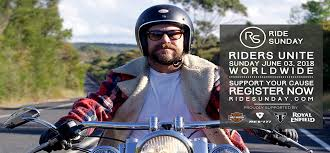helmet: (134, 3, 196, 65)
